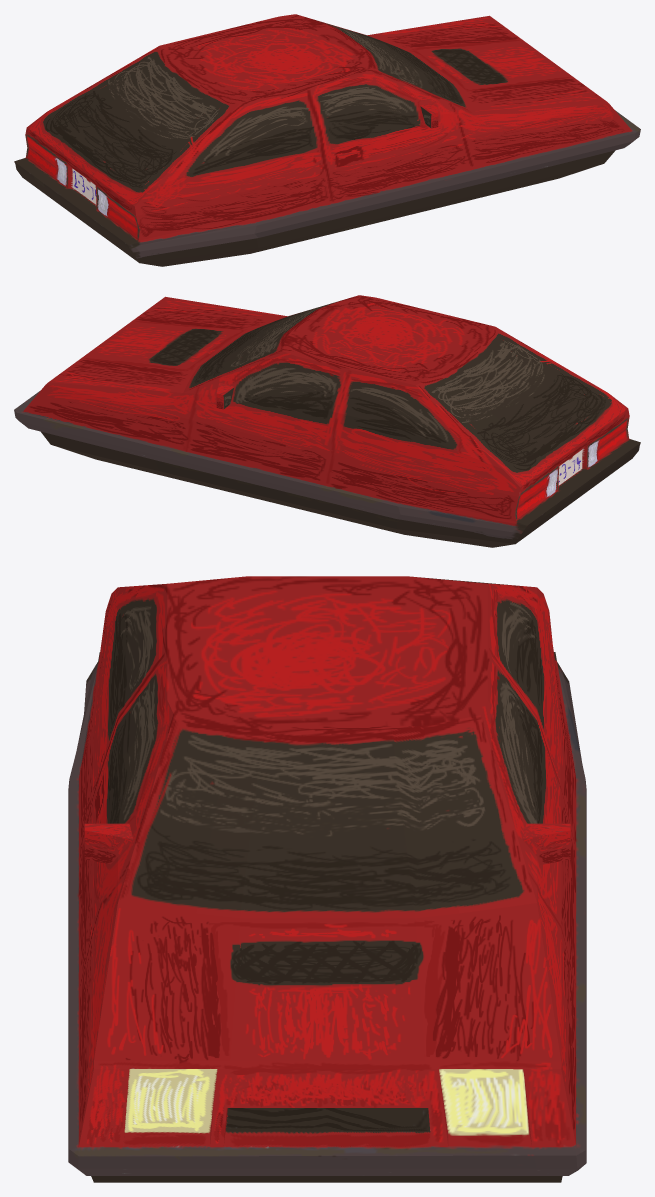
File: 3d_creative_showcase.glb
The picture shows the model from 3 angles, top to bottom: view 1: azimuth 30°, elevation 25°; view 2: azimuth 150°, elevation 25°; view 3: azimuth 270°, elevation 25°; orthographic projection. The views are drawn at different scales.
Visible parts, largest first — view 1: Object_3, Object_4; view 2: Object_3, Object_4; view 3: Object_3, Object_4.
Boxes of the visible parts, box(x1,y1,x2,y2) form: Object_3: box(14, 14, 640, 266); Object_4: box(420, 101, 438, 128); Object_3: box(14, 295, 640, 547); Object_4: box(216, 382, 234, 409); Object_3: box(68, 576, 586, 1182); Object_4: box(84, 823, 570, 864).
Bounding box in the file's own units: 8.2 × 2.18 × 3.62.
Materials: 2 (2 with a texture image).
